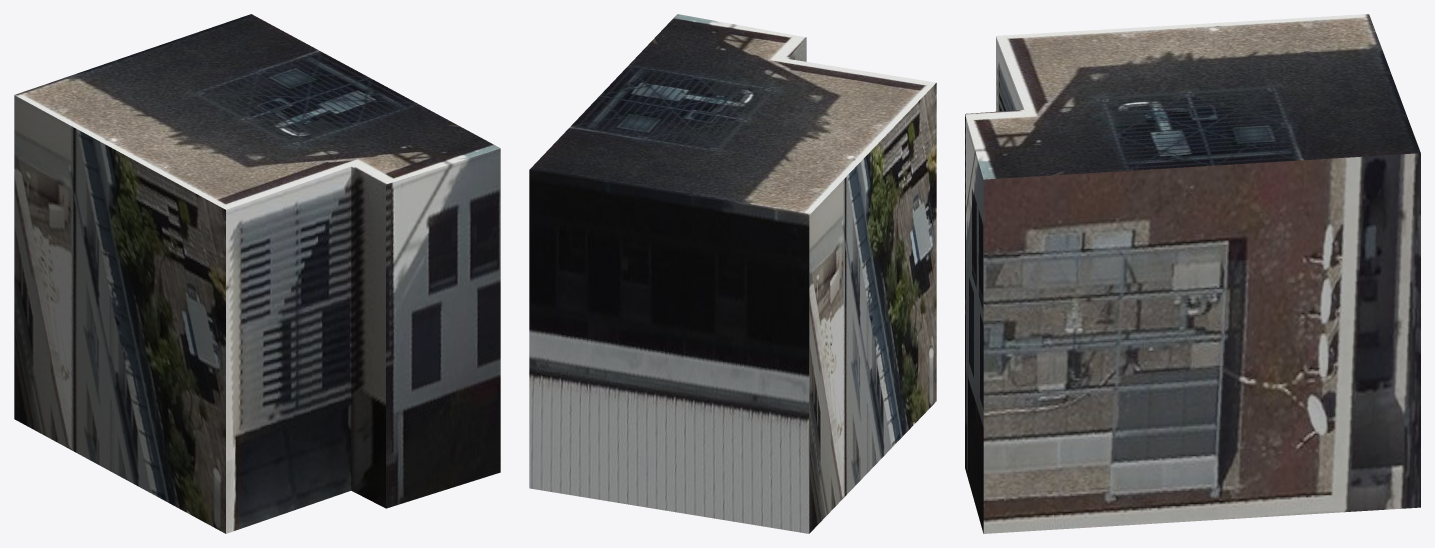
The picture shows the model from 3 angles, left to right: view 1: azimuth 30°, elevation 25°; view 2: azimuth 150°, elevation 25°; view 3: azimuth 270°, elevation 25°; orthographic projection. The views are drawn at different scales.
Parts seen in each view (by area): view 1: Z_UP; view 2: Z_UP; view 3: Z_UP.
Boxes of the visible parts, x1,y1,x2,y2 form: Z_UP: [14, 14, 500, 533]; Z_UP: [529, 14, 936, 533]; Z_UP: [965, 14, 1420, 533].
Size of the model in its own units: 11.81 by 11.79 by 13.74.
Materials: 2 (1 with a texture image).
